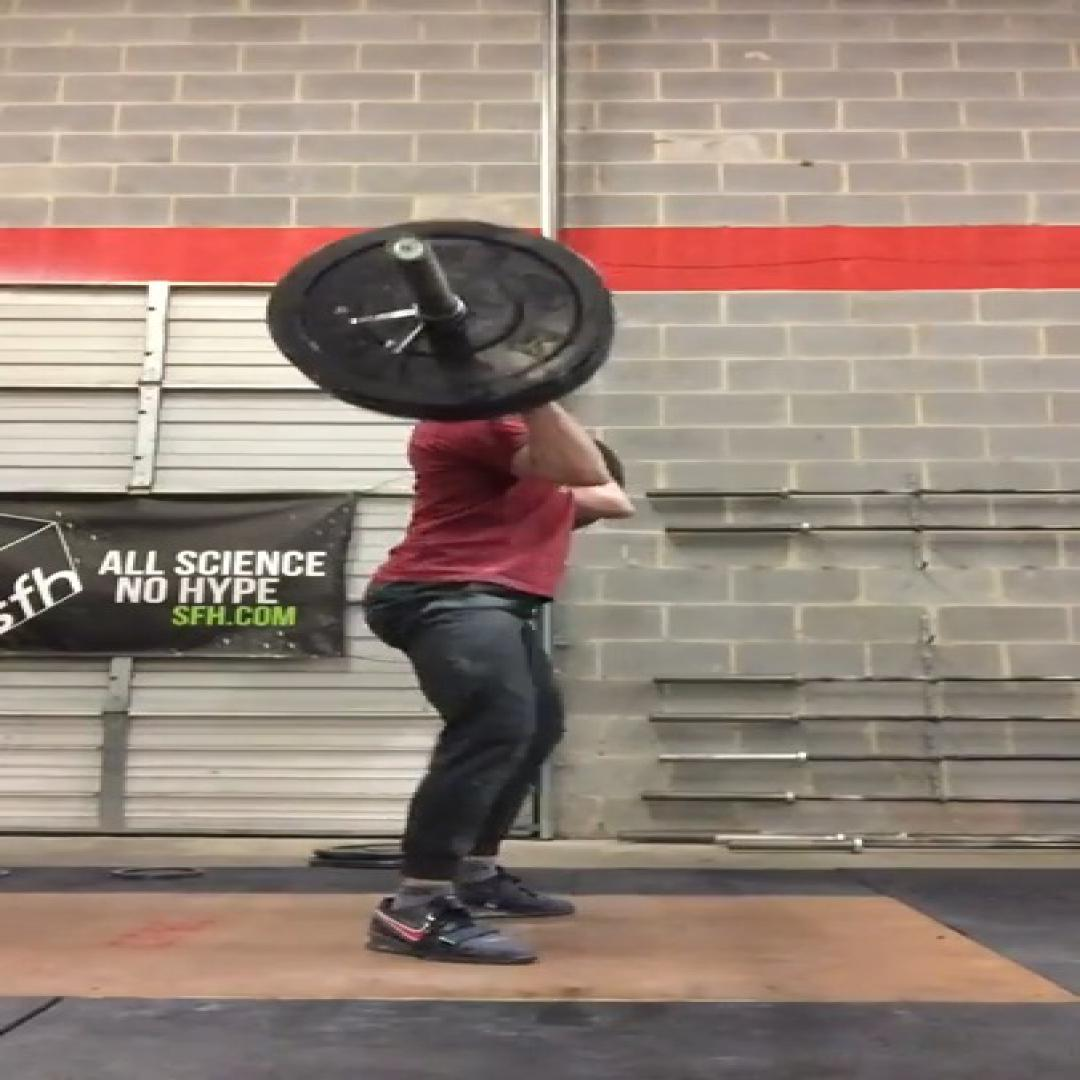Bar: (383, 234, 431, 261)
Barbell: (266, 221, 609, 406)
